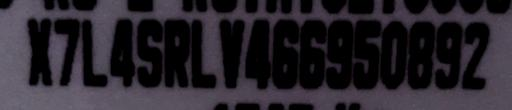letter: (52, 15, 80, 87), (190, 18, 218, 88), (353, 19, 381, 89), (434, 20, 462, 90), (80, 17, 108, 85), (24, 18, 52, 86), (162, 18, 190, 86), (462, 22, 490, 90), (109, 15, 135, 87), (136, 16, 162, 88), (245, 16, 271, 88), (380, 19, 406, 91), (218, 17, 244, 87), (272, 18, 298, 88), (300, 18, 326, 88), (326, 19, 352, 89), (407, 20, 433, 90)
